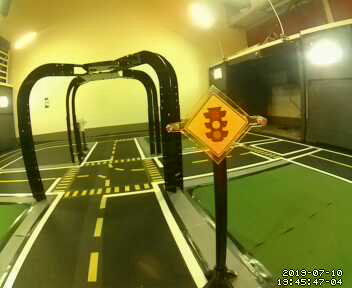Traffic light sign: (188, 94, 248, 161)
